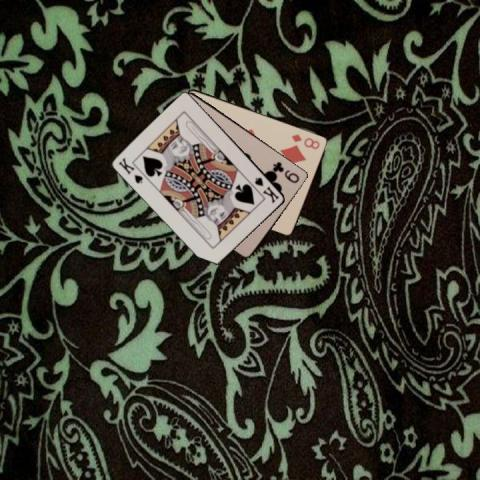8d: (289, 131, 321, 150)
9c: (270, 158, 301, 184)
Ks: (115, 154, 145, 184), (252, 174, 281, 204)
